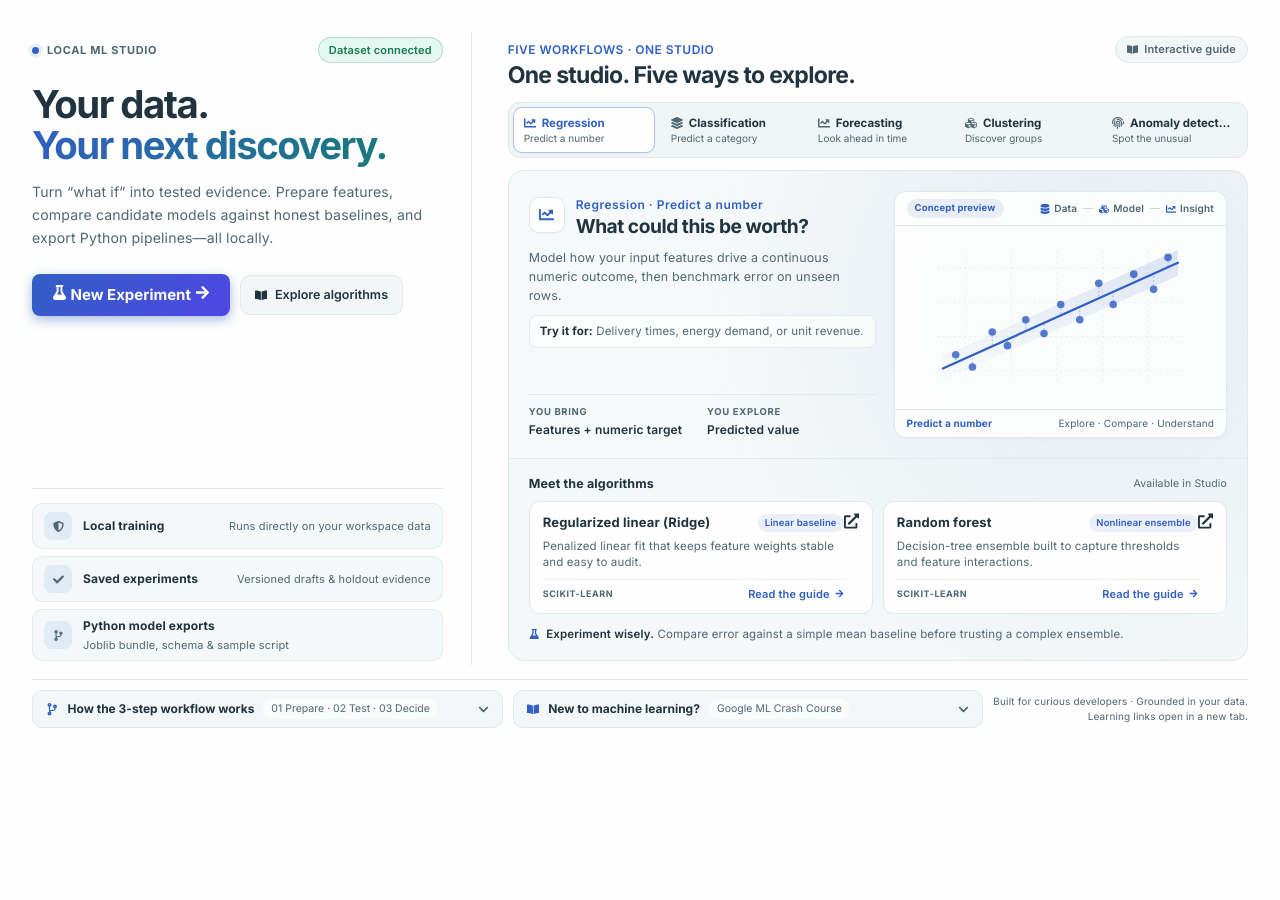
Scenario: ML Studio home learning explorer › explores Classification without starting or changing an experiment
Click the button "Classification Predict a category". click: (731, 130)
box: [660,107,802,154]
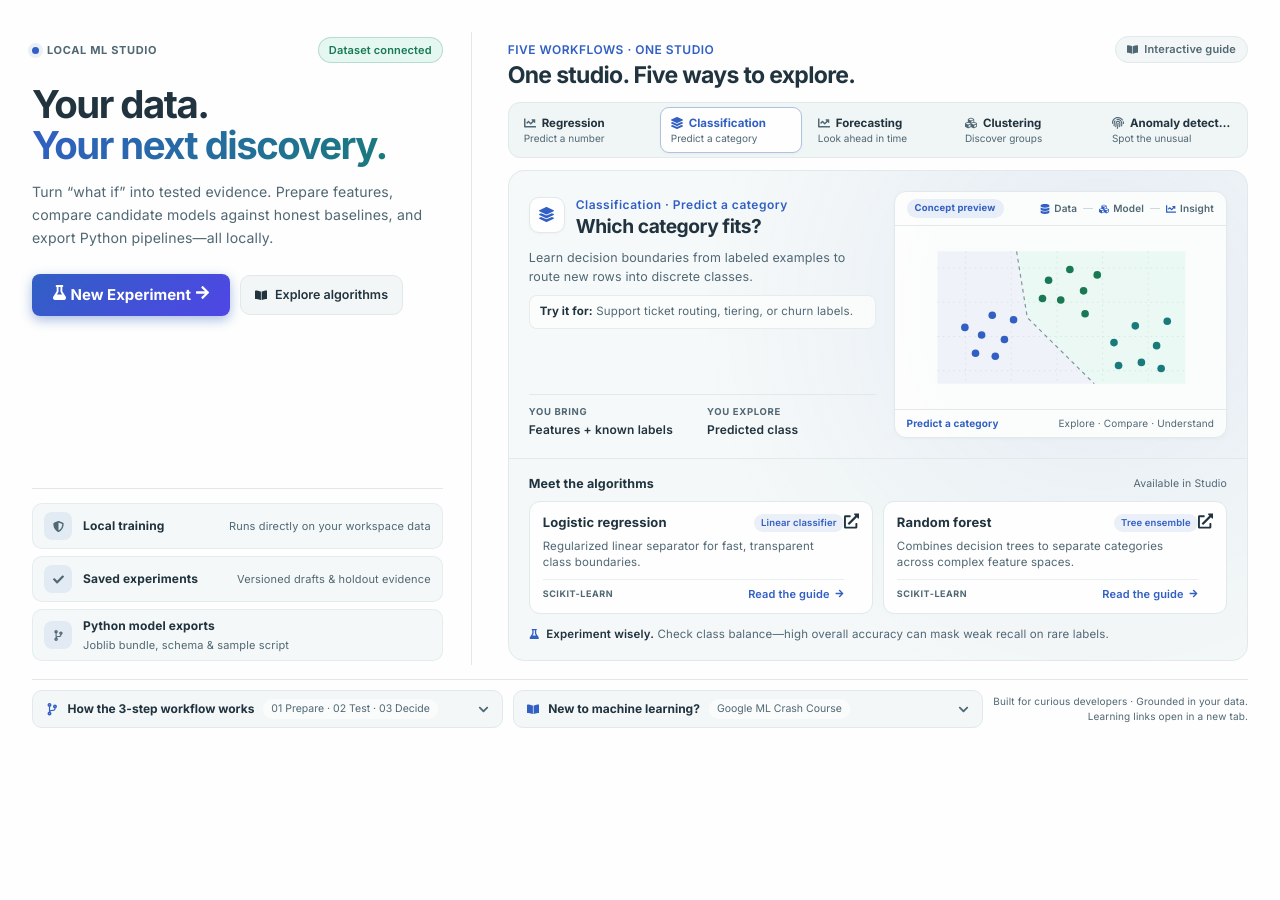
Expected: the heading "Random forest" is shown, [897,514,992,533]
Result: the heading "Logistic regression" is shown at [543,514,667,533]
